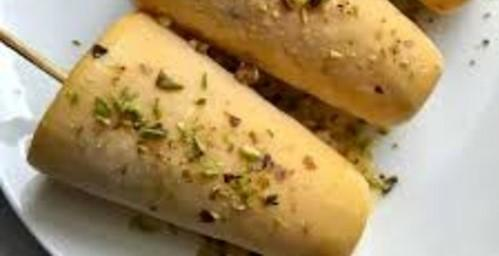Kulfi: (24, 9, 375, 256), (141, 0, 443, 128)
